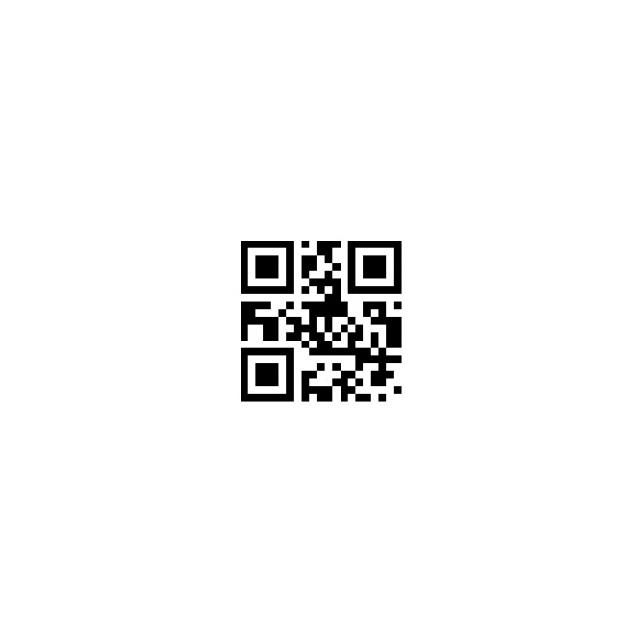QRCode: (231, 229, 408, 408)
